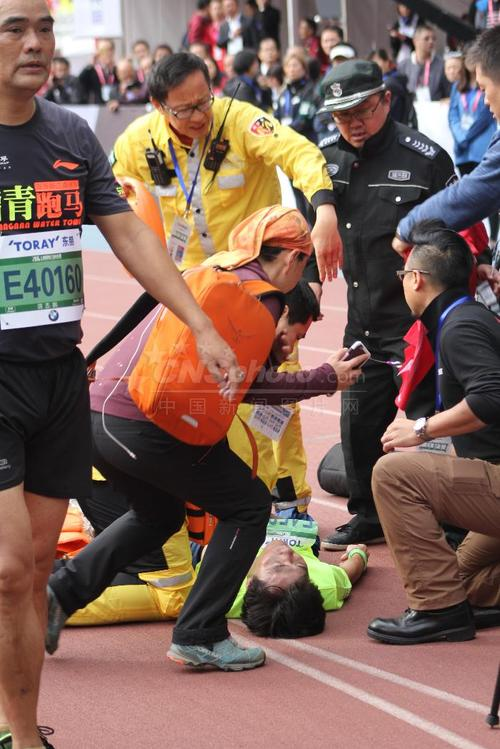10+: (1, 1, 492, 654)
down: (226, 487, 377, 642)
